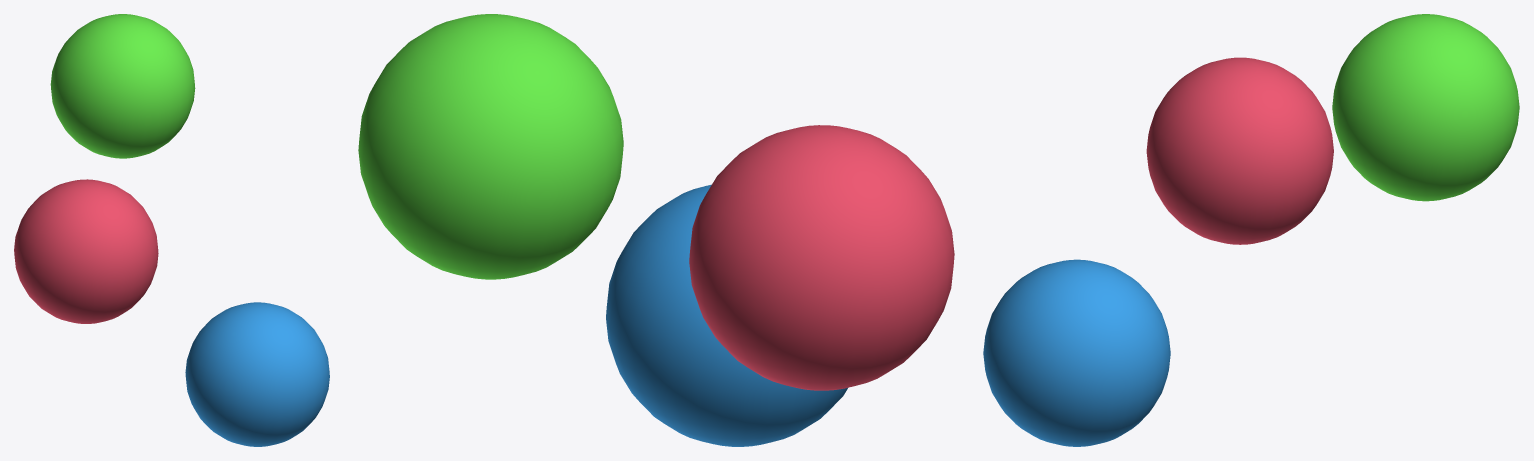
The model's file is 3ball.gltf.
3 views of the same model, side by side, from view 1: azimuth 30°, elevation 25°; view 2: azimuth 150°, elevation 25°; view 3: azimuth 270°, elevation 25° (orthographic). The views are drawn at different scales.
Parts seen in each view (by area): view 1: Sphere.002, Sphere, Sphere.001; view 2: Sphere, Sphere.001, Sphere.002; view 3: Sphere, Sphere.001, Sphere.002.
Boxes of the visible parts, bbox=[...] form: Sphere.002: bbox=[185, 302, 329, 446]; Sphere: bbox=[14, 179, 158, 323]; Sphere.001: bbox=[50, 14, 195, 158]; Sphere: bbox=[689, 125, 954, 390]; Sphere.001: bbox=[358, 14, 623, 279]; Sphere.002: bbox=[606, 184, 847, 446]; Sphere: bbox=[1146, 57, 1333, 244]; Sphere.001: bbox=[1332, 14, 1519, 201]; Sphere.002: bbox=[983, 259, 1170, 446].
Size of the model in its own units: 3.73 by 4.89 by 5.72.
